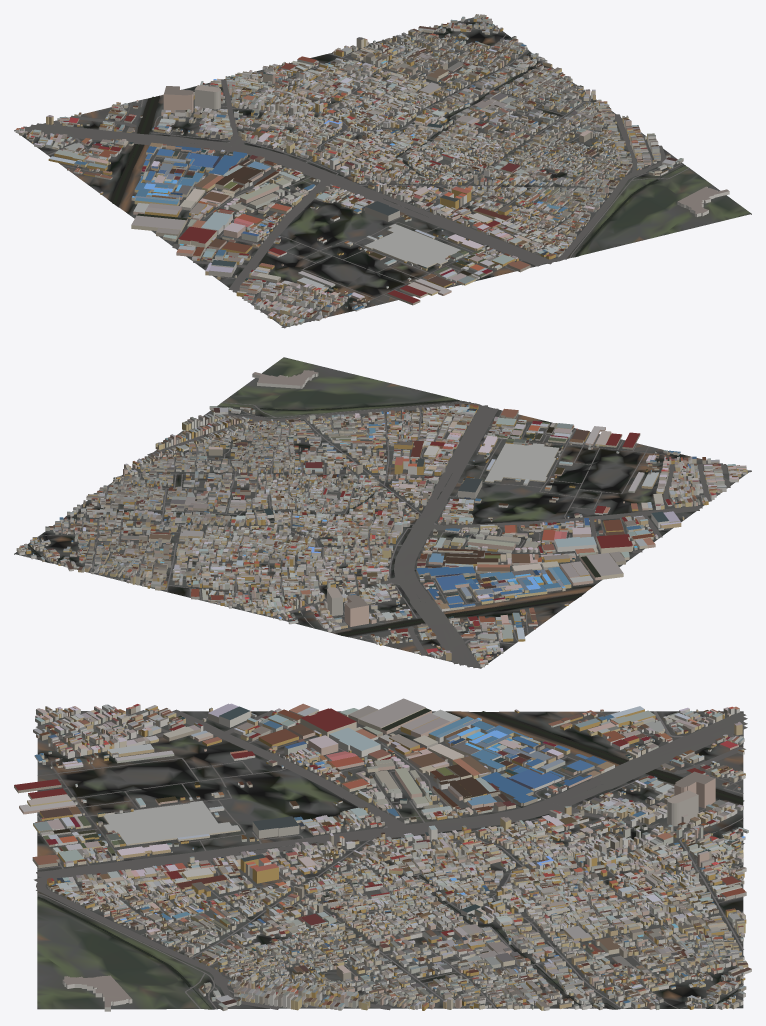
The picture shows the model from 3 angles, top to bottom: view 1: azimuth 30°, elevation 25°; view 2: azimuth 150°, elevation 25°; view 3: azimuth 270°, elevation 25°; orthographic projection. The views are drawn at different scales.
Visible parts, largest first — view 1: buildings, ground, roads, water; view 2: buildings, ground, roads, water; view 3: buildings, ground, roads, water.
Boxes of the visible parts, box(x1,y1,x2,y2) form: buildings: box(15, 14, 729, 326); ground: box(14, 16, 751, 327); roads: box(19, 18, 689, 328); water: box(110, 23, 685, 256); buildings: box(16, 370, 747, 667); ground: box(14, 357, 748, 668); roads: box(25, 401, 751, 667); water: box(27, 399, 583, 636); buildings: box(14, 698, 751, 1011); ground: box(37, 710, 743, 1009); roads: box(34, 709, 747, 1010); water: box(37, 711, 744, 1009).
Size of the model in its own units: 1448 by 56.66 by 1464.
